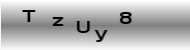8: (118, 11, 132, 25)
T: (21, 9, 36, 22)
U: (76, 20, 90, 33)
y: (94, 28, 107, 43)
z: (50, 16, 64, 26)
